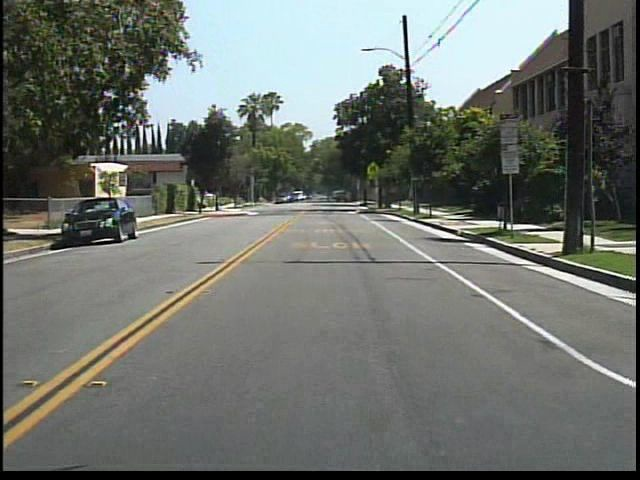person: (322, 188, 336, 205)
